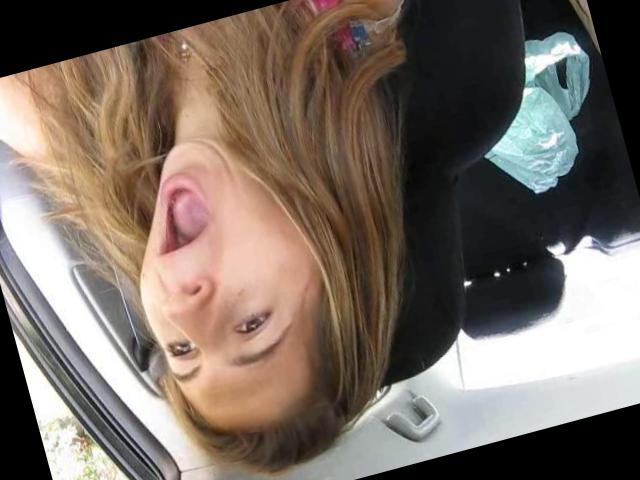eye_open: (226, 301, 285, 345), (160, 333, 200, 367)
face: (98, 115, 330, 404)
mouth_open: (133, 167, 225, 271)
